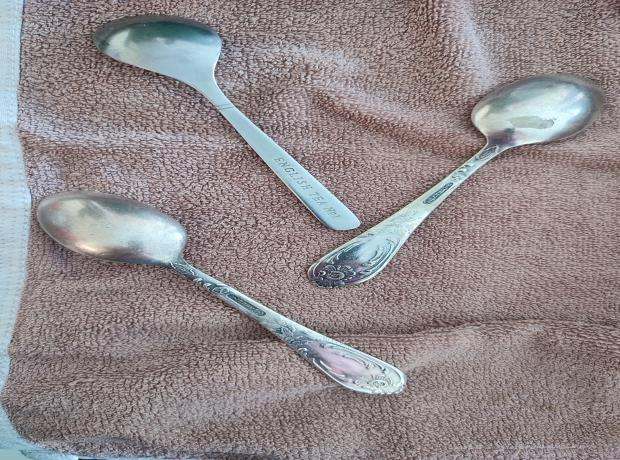metal: (37, 190, 413, 397), (304, 71, 604, 290), (97, 13, 367, 231)
